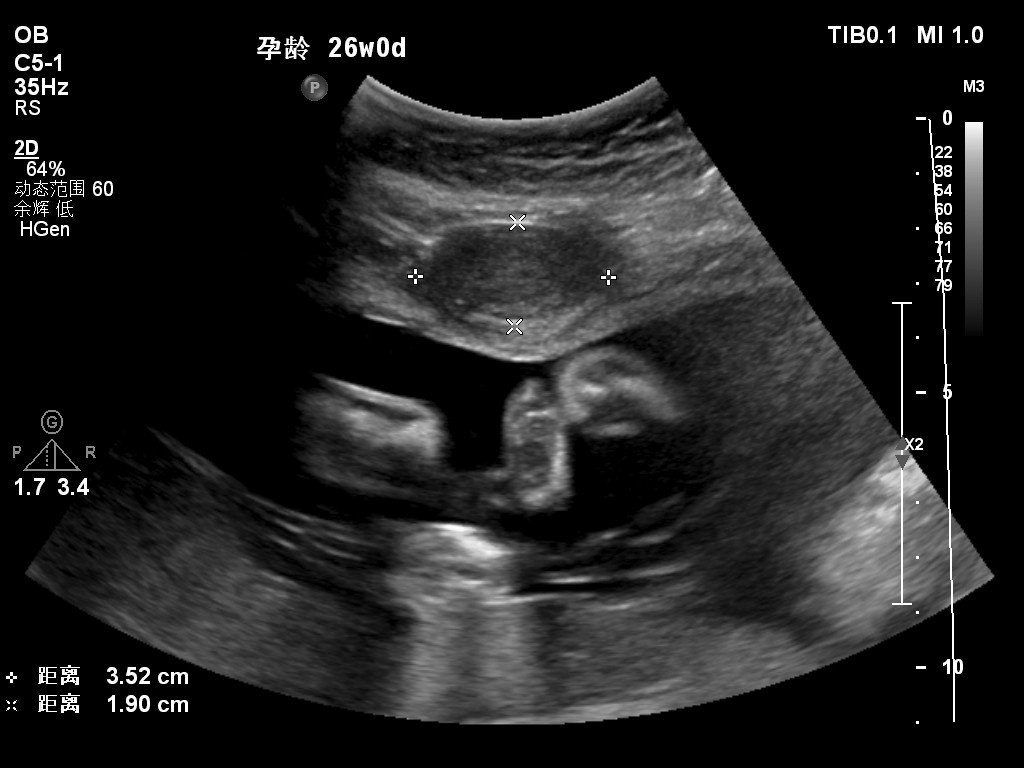肌瘤: (427, 231, 608, 314)
